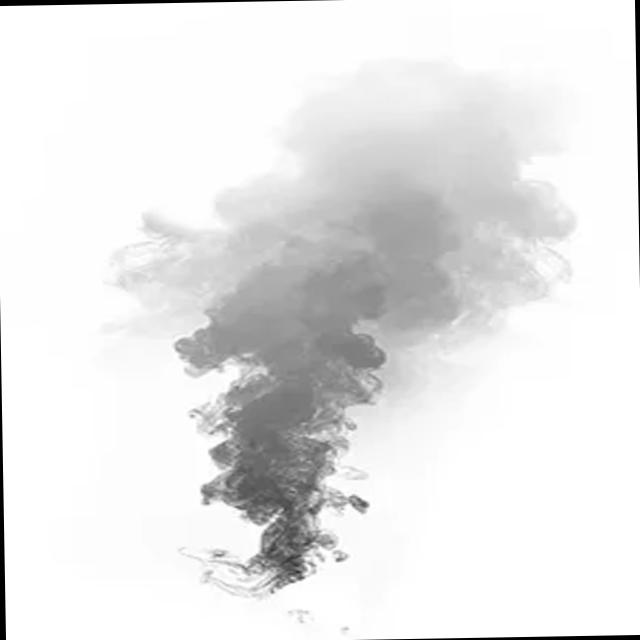Smoke: (104, 54, 582, 602)
